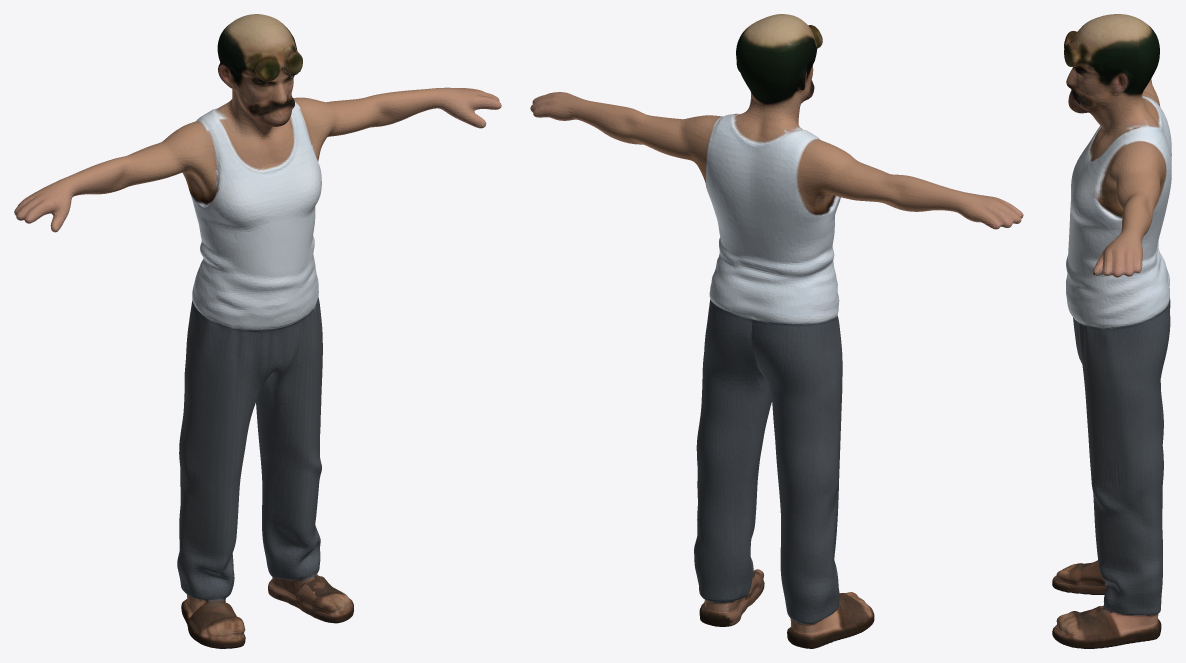
The model's file is ibrahim.glb.
3 views of the same model, side by side, from view 1: azimuth 30°, elevation 25°; view 2: azimuth 150°, elevation 25°; view 3: azimuth 270°, elevation 25° (orthographic).
Visible parts, largest first — view 1: tmposgjugfh.ply; view 2: tmposgjugfh.ply; view 3: tmposgjugfh.ply.
Boxes of the visible parts, x1=… form: tmposgjugfh.ply: x1=14, y1=14, x2=501, y2=648; tmposgjugfh.ply: x1=530, y1=14, x2=1023, y2=648; tmposgjugfh.ply: x1=1052, y1=14, x2=1171, y2=648.
Size of the model in its own units: 1.69 by 1.99 by 0.3634.
Materials: 1 (1 with a texture image).
